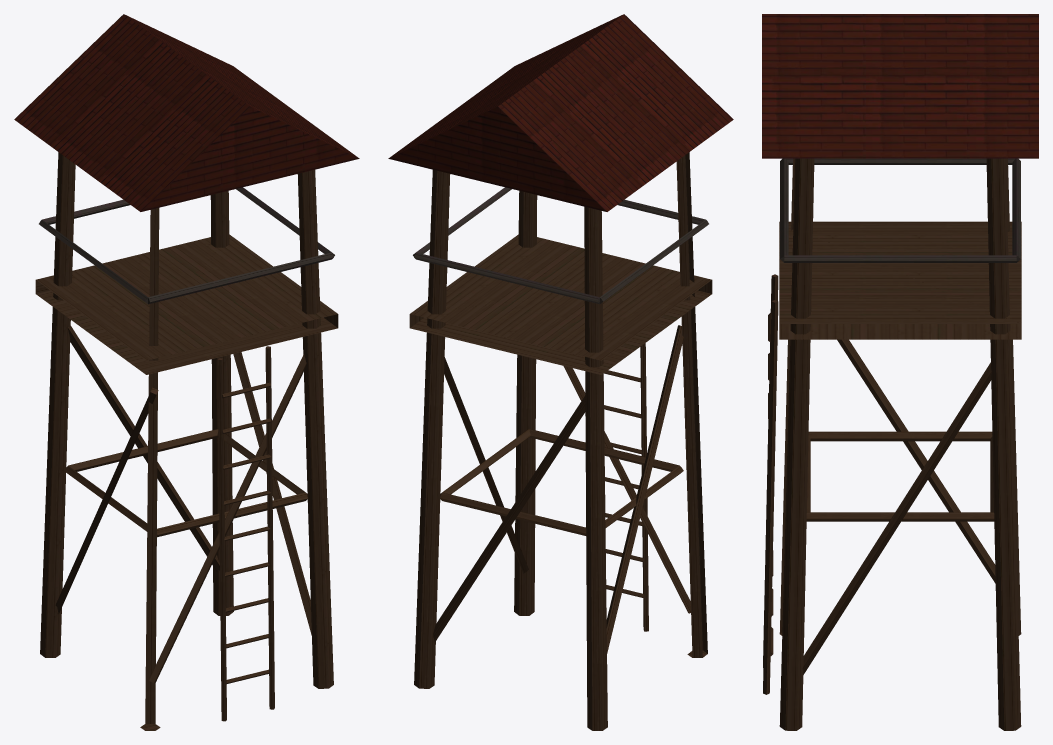
The model's file is watchtower_01.glb.
3 renders of one model, left to right at view 1: azimuth 30°, elevation 25°; view 2: azimuth 150°, elevation 25°; view 3: azimuth 270°, elevation 25°, orthographic. The views are drawn at different scales.
Parts seen in each view (by area): view 1: watchtower_01; view 2: watchtower_01; view 3: watchtower_01.
Part boxes in pixels (box(x1,y1,x2,y2)): watchtower_01: box(14, 14, 359, 730); watchtower_01: box(388, 14, 733, 730); watchtower_01: box(762, 14, 1038, 730).
Bounding box in the file's own units: 3.2 × 8.5 × 3.2.
3 materials, 3 textured.
